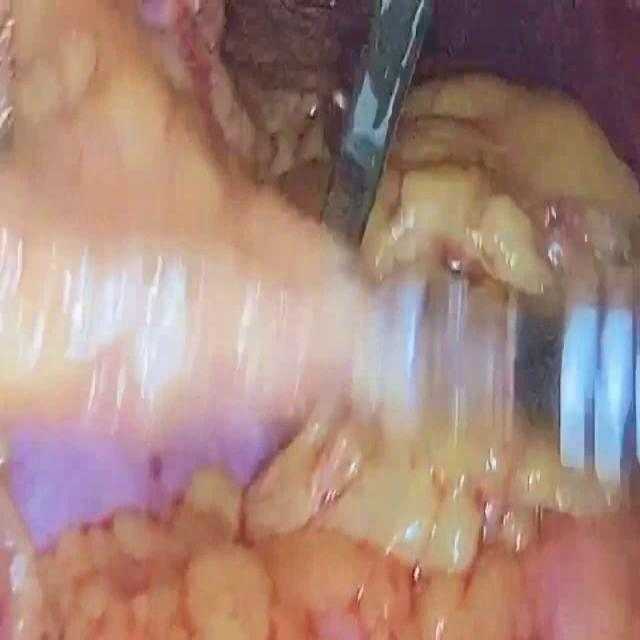surgical-area: (0, 0, 640, 639)
surgical-tool: (322, 1, 437, 244)
